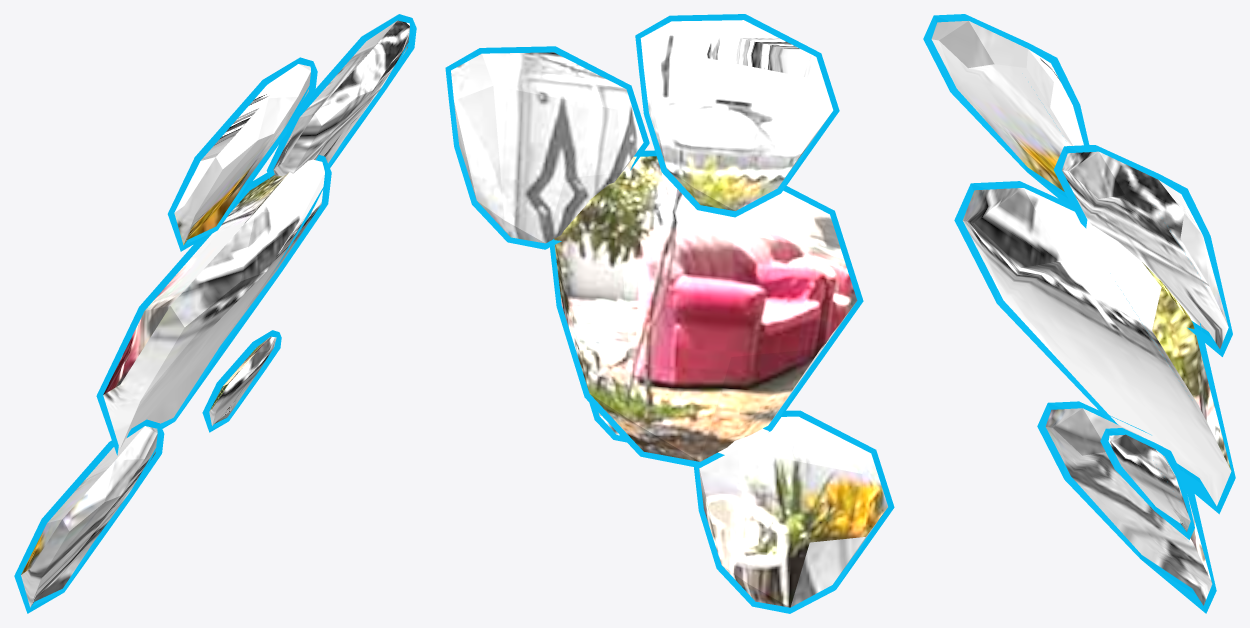
The model's file is Folk_Housing_Revisited_(Ghubaibah).glb.
3 renders of one model, left to right at view 1: azimuth 30°, elevation 25°; view 2: azimuth 150°, elevation 25°; view 3: azimuth 270°, elevation 25°, orthographic. The views are drawn at different scales.
Visible parts, largest first — view 1: Ahmed Khadier.001; view 2: Ahmed Khadier.001; view 3: Ahmed Khadier.001.
Boxes of the visible parts, x1,y1,x2,y2 form: Ahmed Khadier.001: [14, 14, 416, 613]; Ahmed Khadier.001: [445, 14, 894, 613]; Ahmed Khadier.001: [923, 14, 1235, 613].
Bounding box in the file's own units: 3.67 × 4.42 × 1.87.
Materials: 2 (1 with a texture image).
